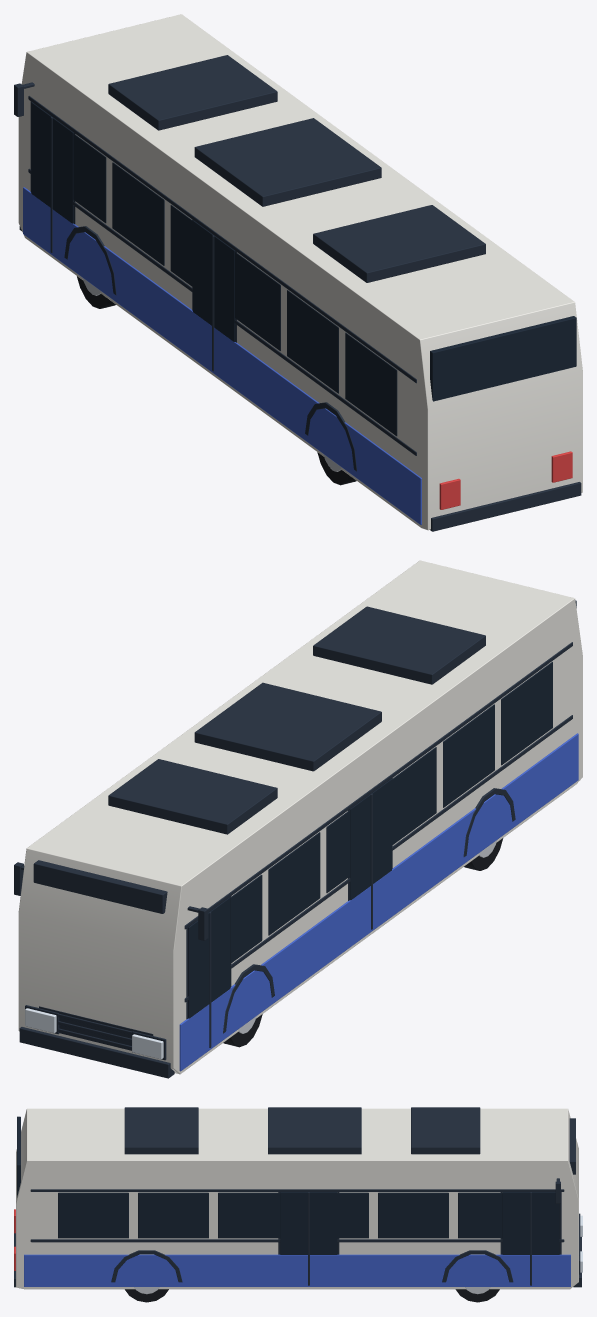
The model's file is veh_bus_city_01.glb.
The picture shows the model from 3 angles, top to bottom: view 1: azimuth 30°, elevation 25°; view 2: azimuth 150°, elevation 25°; view 3: azimuth 270°, elevation 25°; orthographic projection. The views are drawn at different scales.
Parts seen in each view (by area): view 1: VEH_BUS_CITY_01_ROOT; view 2: VEH_BUS_CITY_01_ROOT; view 3: VEH_BUS_CITY_01_ROOT.
Boxes of the visible parts, bbox=[...] form: VEH_BUS_CITY_01_ROOT: bbox=[14, 14, 582, 531]; VEH_BUS_CITY_01_ROOT: bbox=[14, 560, 582, 1078]; VEH_BUS_CITY_01_ROOT: bbox=[14, 1107, 582, 1302].
Size of what is drawn, in the model's own units: 3.07 by 3.34 by 11.52.
